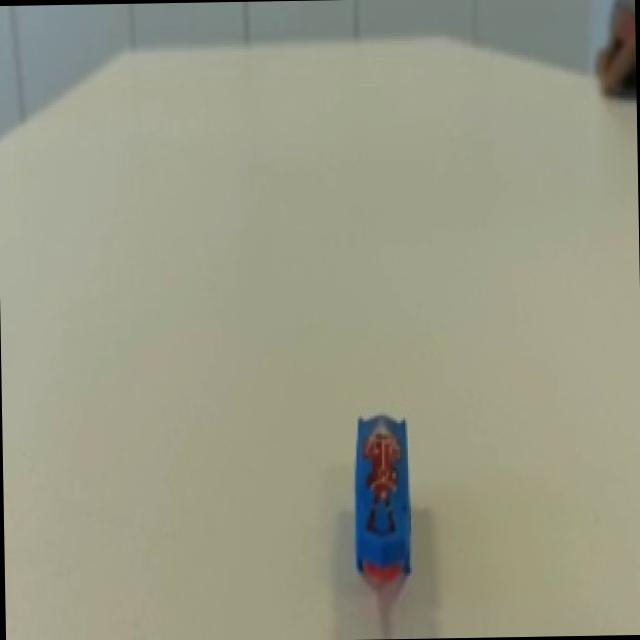1_NanoBug_Azul: (328, 387, 441, 610)
